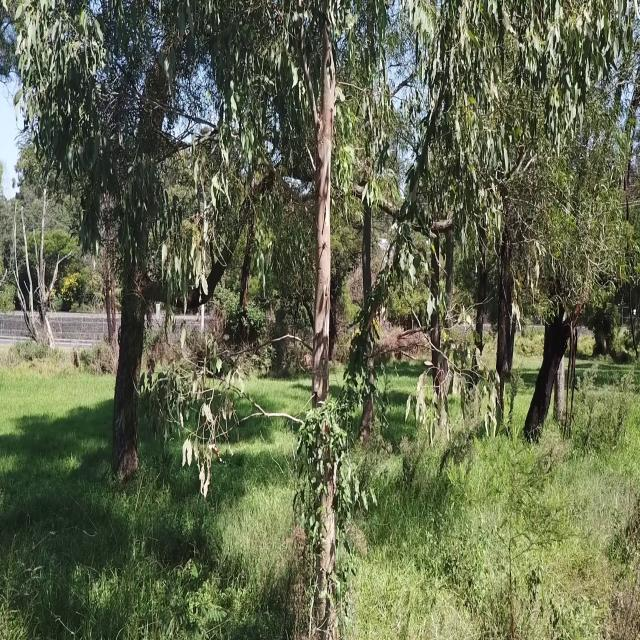Mysore-Thorn-Weed: (162, 562, 230, 640)
